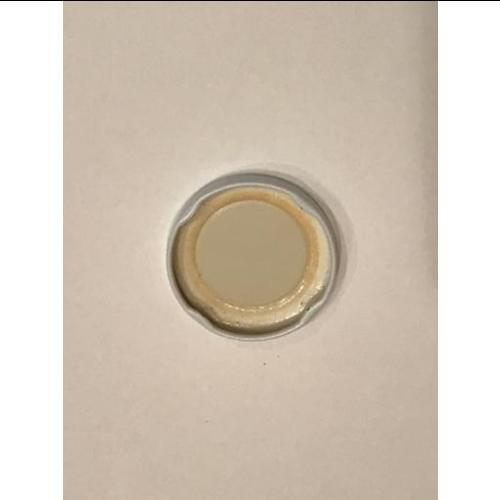metal: (166, 170, 344, 341)
